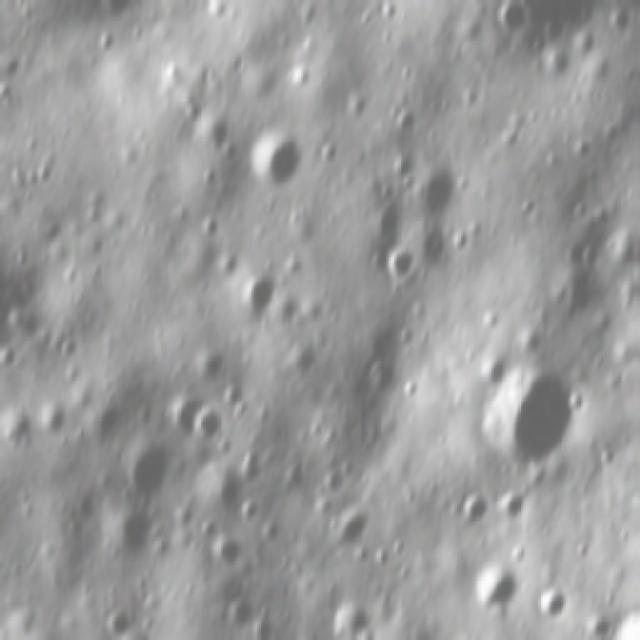crater: (482, 356, 592, 475), (248, 130, 312, 196), (412, 165, 465, 228), (114, 504, 169, 564), (124, 444, 178, 504), (234, 269, 286, 326), (88, 398, 134, 454), (327, 512, 382, 554), (480, 562, 518, 618), (330, 600, 387, 637), (529, 584, 576, 627), (488, 0, 534, 42), (194, 402, 235, 446), (195, 112, 236, 154), (165, 395, 203, 439), (5, 408, 43, 452), (225, 593, 264, 635), (473, 355, 516, 393), (384, 245, 422, 288), (369, 203, 406, 245), (460, 490, 494, 532), (214, 532, 251, 570), (43, 400, 80, 437), (498, 488, 532, 528), (105, 609, 150, 637), (194, 206, 226, 245), (243, 492, 277, 528), (239, 453, 275, 484), (282, 465, 313, 500), (318, 469, 352, 497), (264, 522, 290, 549), (0, 344, 26, 370), (406, 379, 428, 403)
